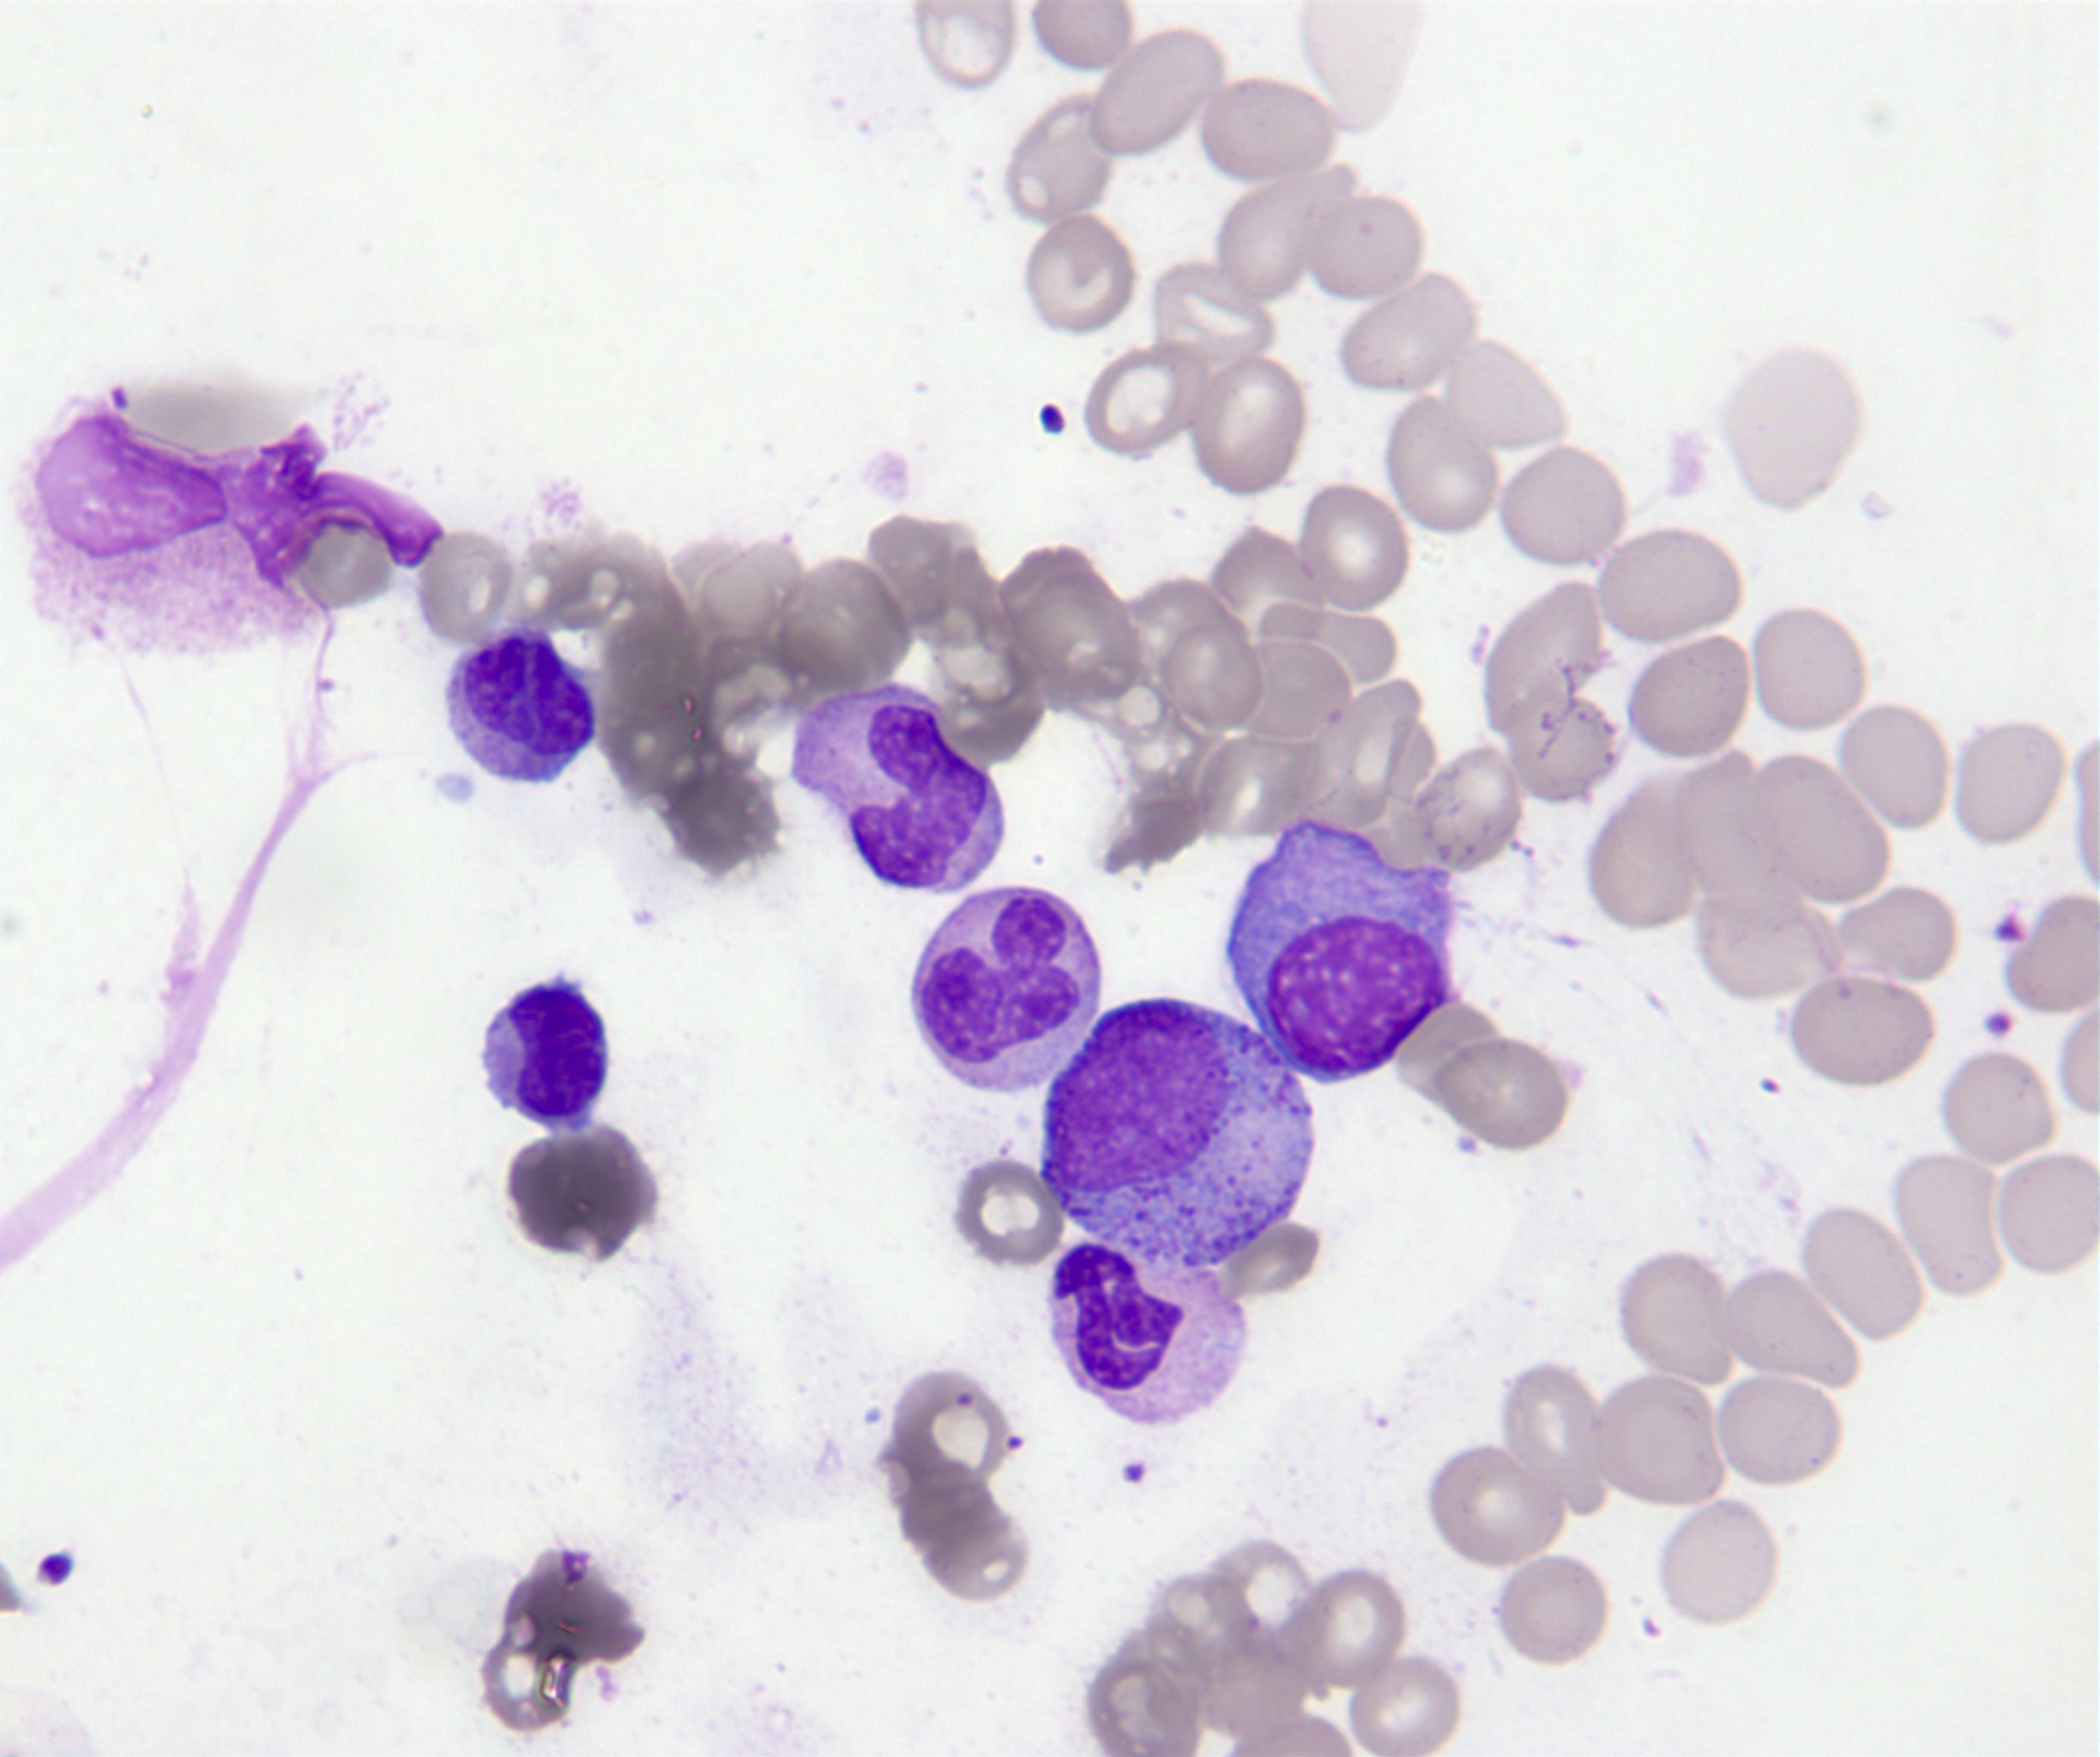2: (1041, 998, 1313, 1270)
4: (792, 686, 1005, 893), (912, 885, 1102, 1089), (448, 625, 595, 783), (483, 972, 607, 1132)
5: (1052, 1242, 1245, 1425)
x: (12, 393, 443, 653), (1228, 820, 1453, 1084)
